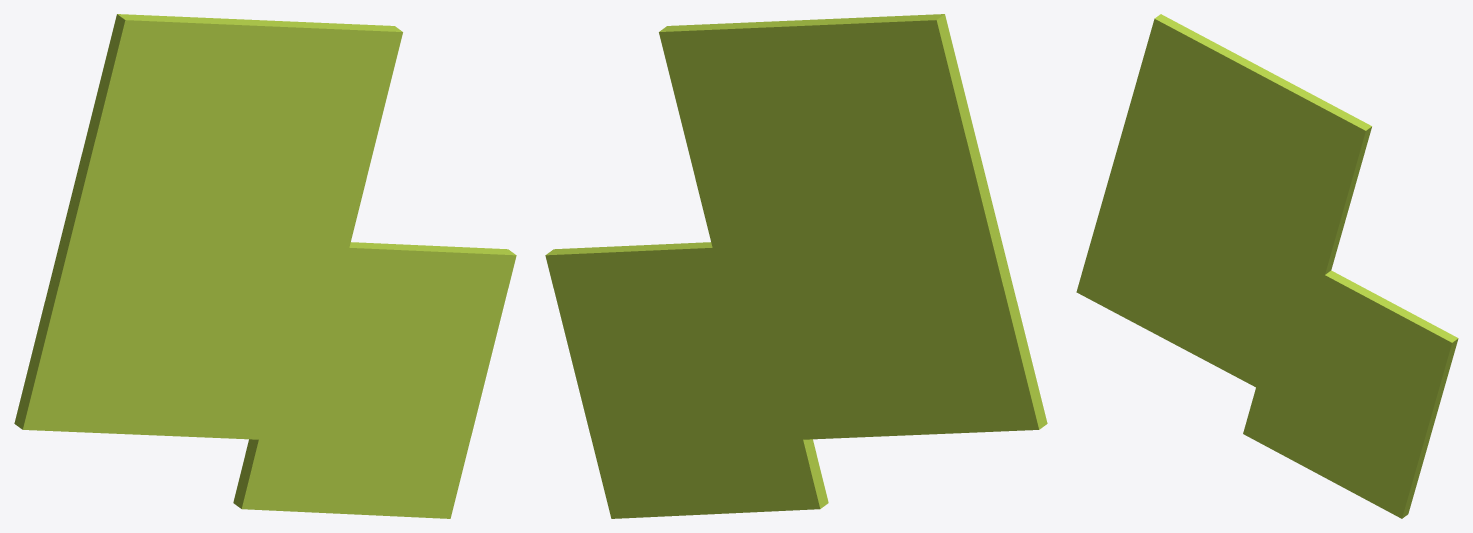
The picture shows the model from 3 angles, left to right: view 1: azimuth 30°, elevation 25°; view 2: azimuth 150°, elevation 25°; view 3: azimuth 330°, elevation 25°; orthographic projection. The views are drawn at different scales.
Visible parts, largest first — view 1: osm-way27917482-F0; view 2: osm-way27917482-F0; view 3: osm-way27917482-F0.
Part boxes in pixels (x1,y1,x2,y2): osm-way27917482-F0: (14,14,516,518); osm-way27917482-F0: (545,14,1047,518); osm-way27917482-F0: (1076,14,1458,518).
Bounding box in the file's own units: 5.11 × 5.71 × 0.15.
